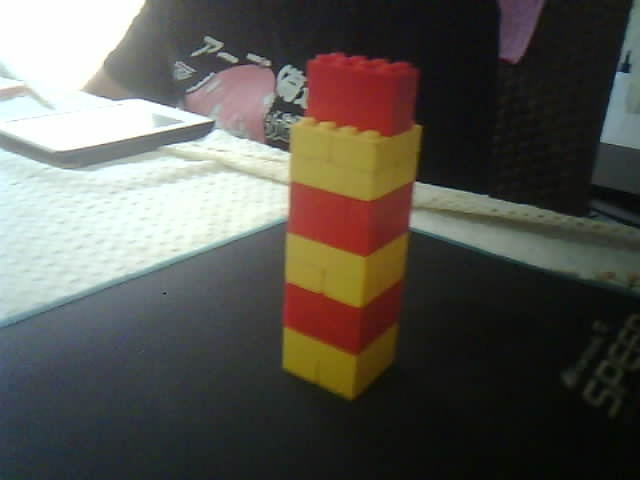lego: (280, 50, 423, 400)
